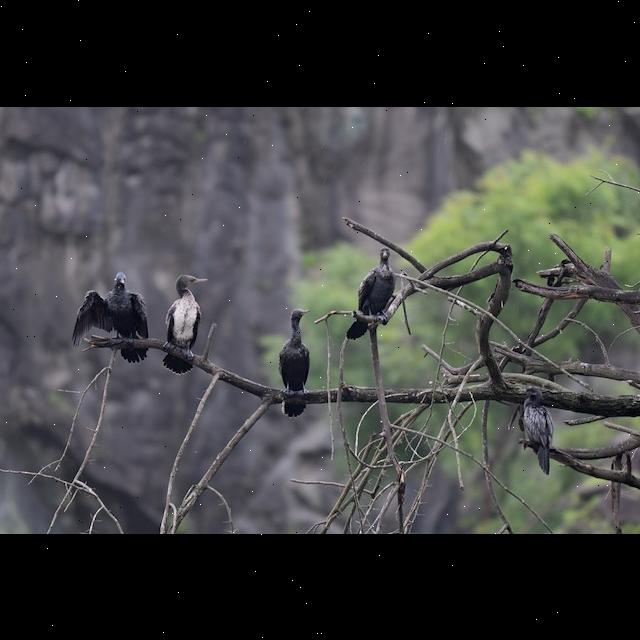cormorant: (64, 264, 150, 374), (334, 239, 401, 347), (156, 265, 212, 377), (267, 298, 315, 426)
